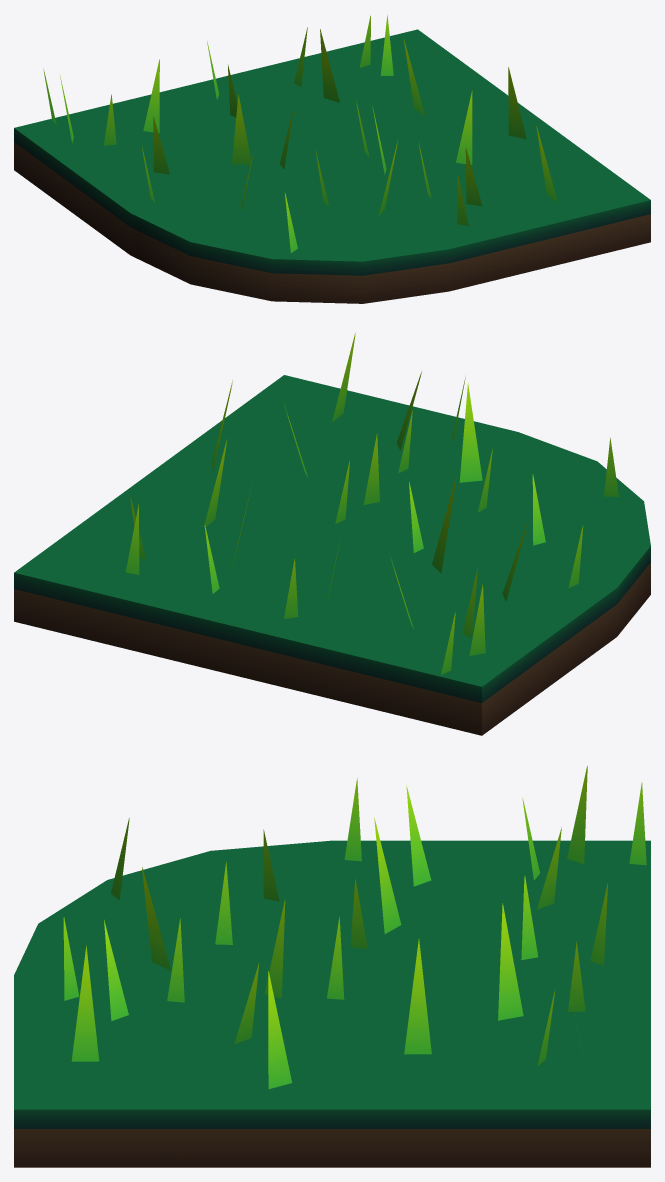
File: Grass_Patch_1B.fbx
The picture shows the model from 3 angles, top to bottom: view 1: azimuth 30°, elevation 25°; view 2: azimuth 150°, elevation 25°; view 3: azimuth 270°, elevation 25°; orthographic projection. The views are drawn at different scales.
Visible parts, largest first — view 1: Grass_Patch_1B; view 2: Grass_Patch_1B; view 3: Grass_Patch_1B.
Part boxes in pixels (bbox=[...]): Grass_Patch_1B: bbox=[14, 15, 650, 303]; Grass_Patch_1B: bbox=[14, 333, 650, 735]; Grass_Patch_1B: bbox=[14, 766, 650, 1167].
Size of the model in its own units: 400 by 114 by 400.
